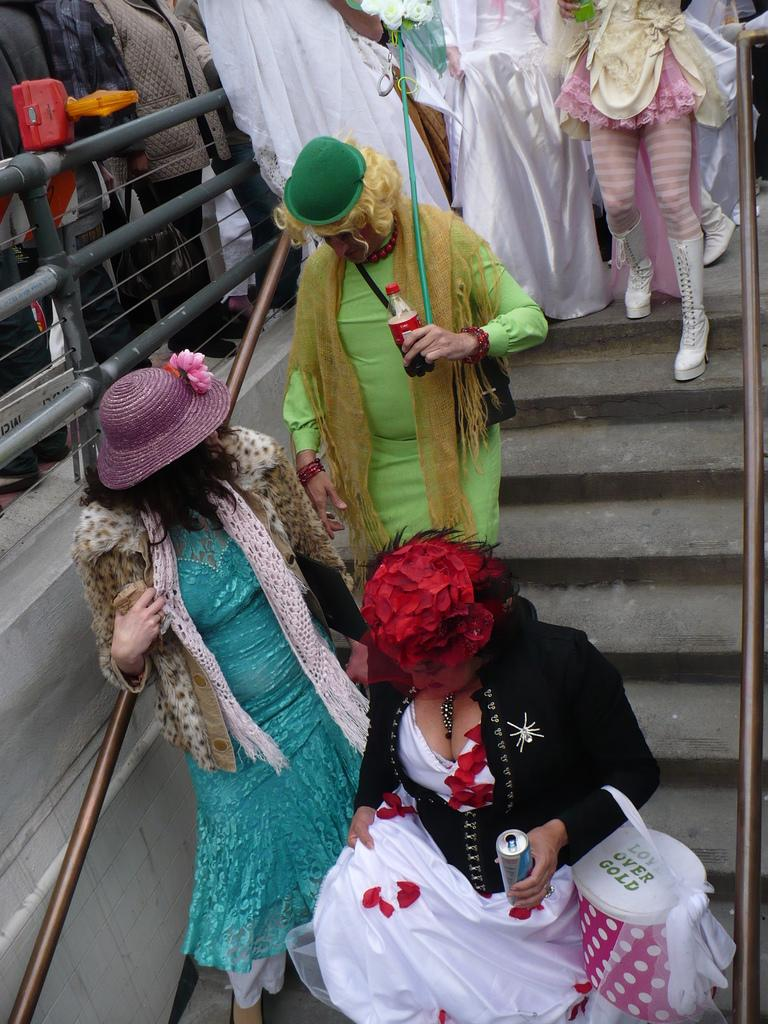Hat: (96, 346, 228, 492), (283, 134, 366, 228)
